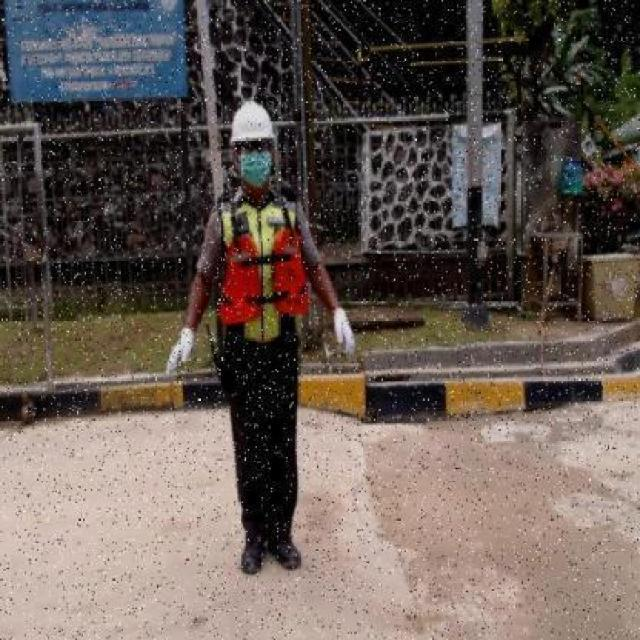Boots: (266, 538, 302, 574), (238, 538, 266, 576)
Gloves: (166, 324, 197, 378), (329, 304, 358, 356)
Helmet: (230, 96, 275, 138)
Mask: (218, 228, 310, 324)
